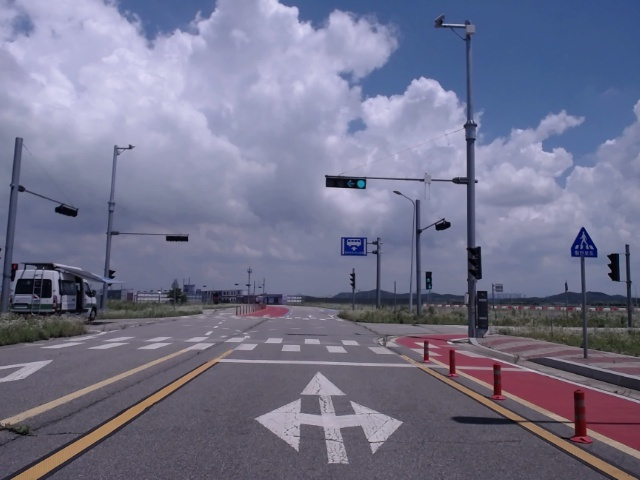all_green_4: (324, 175, 369, 190)
